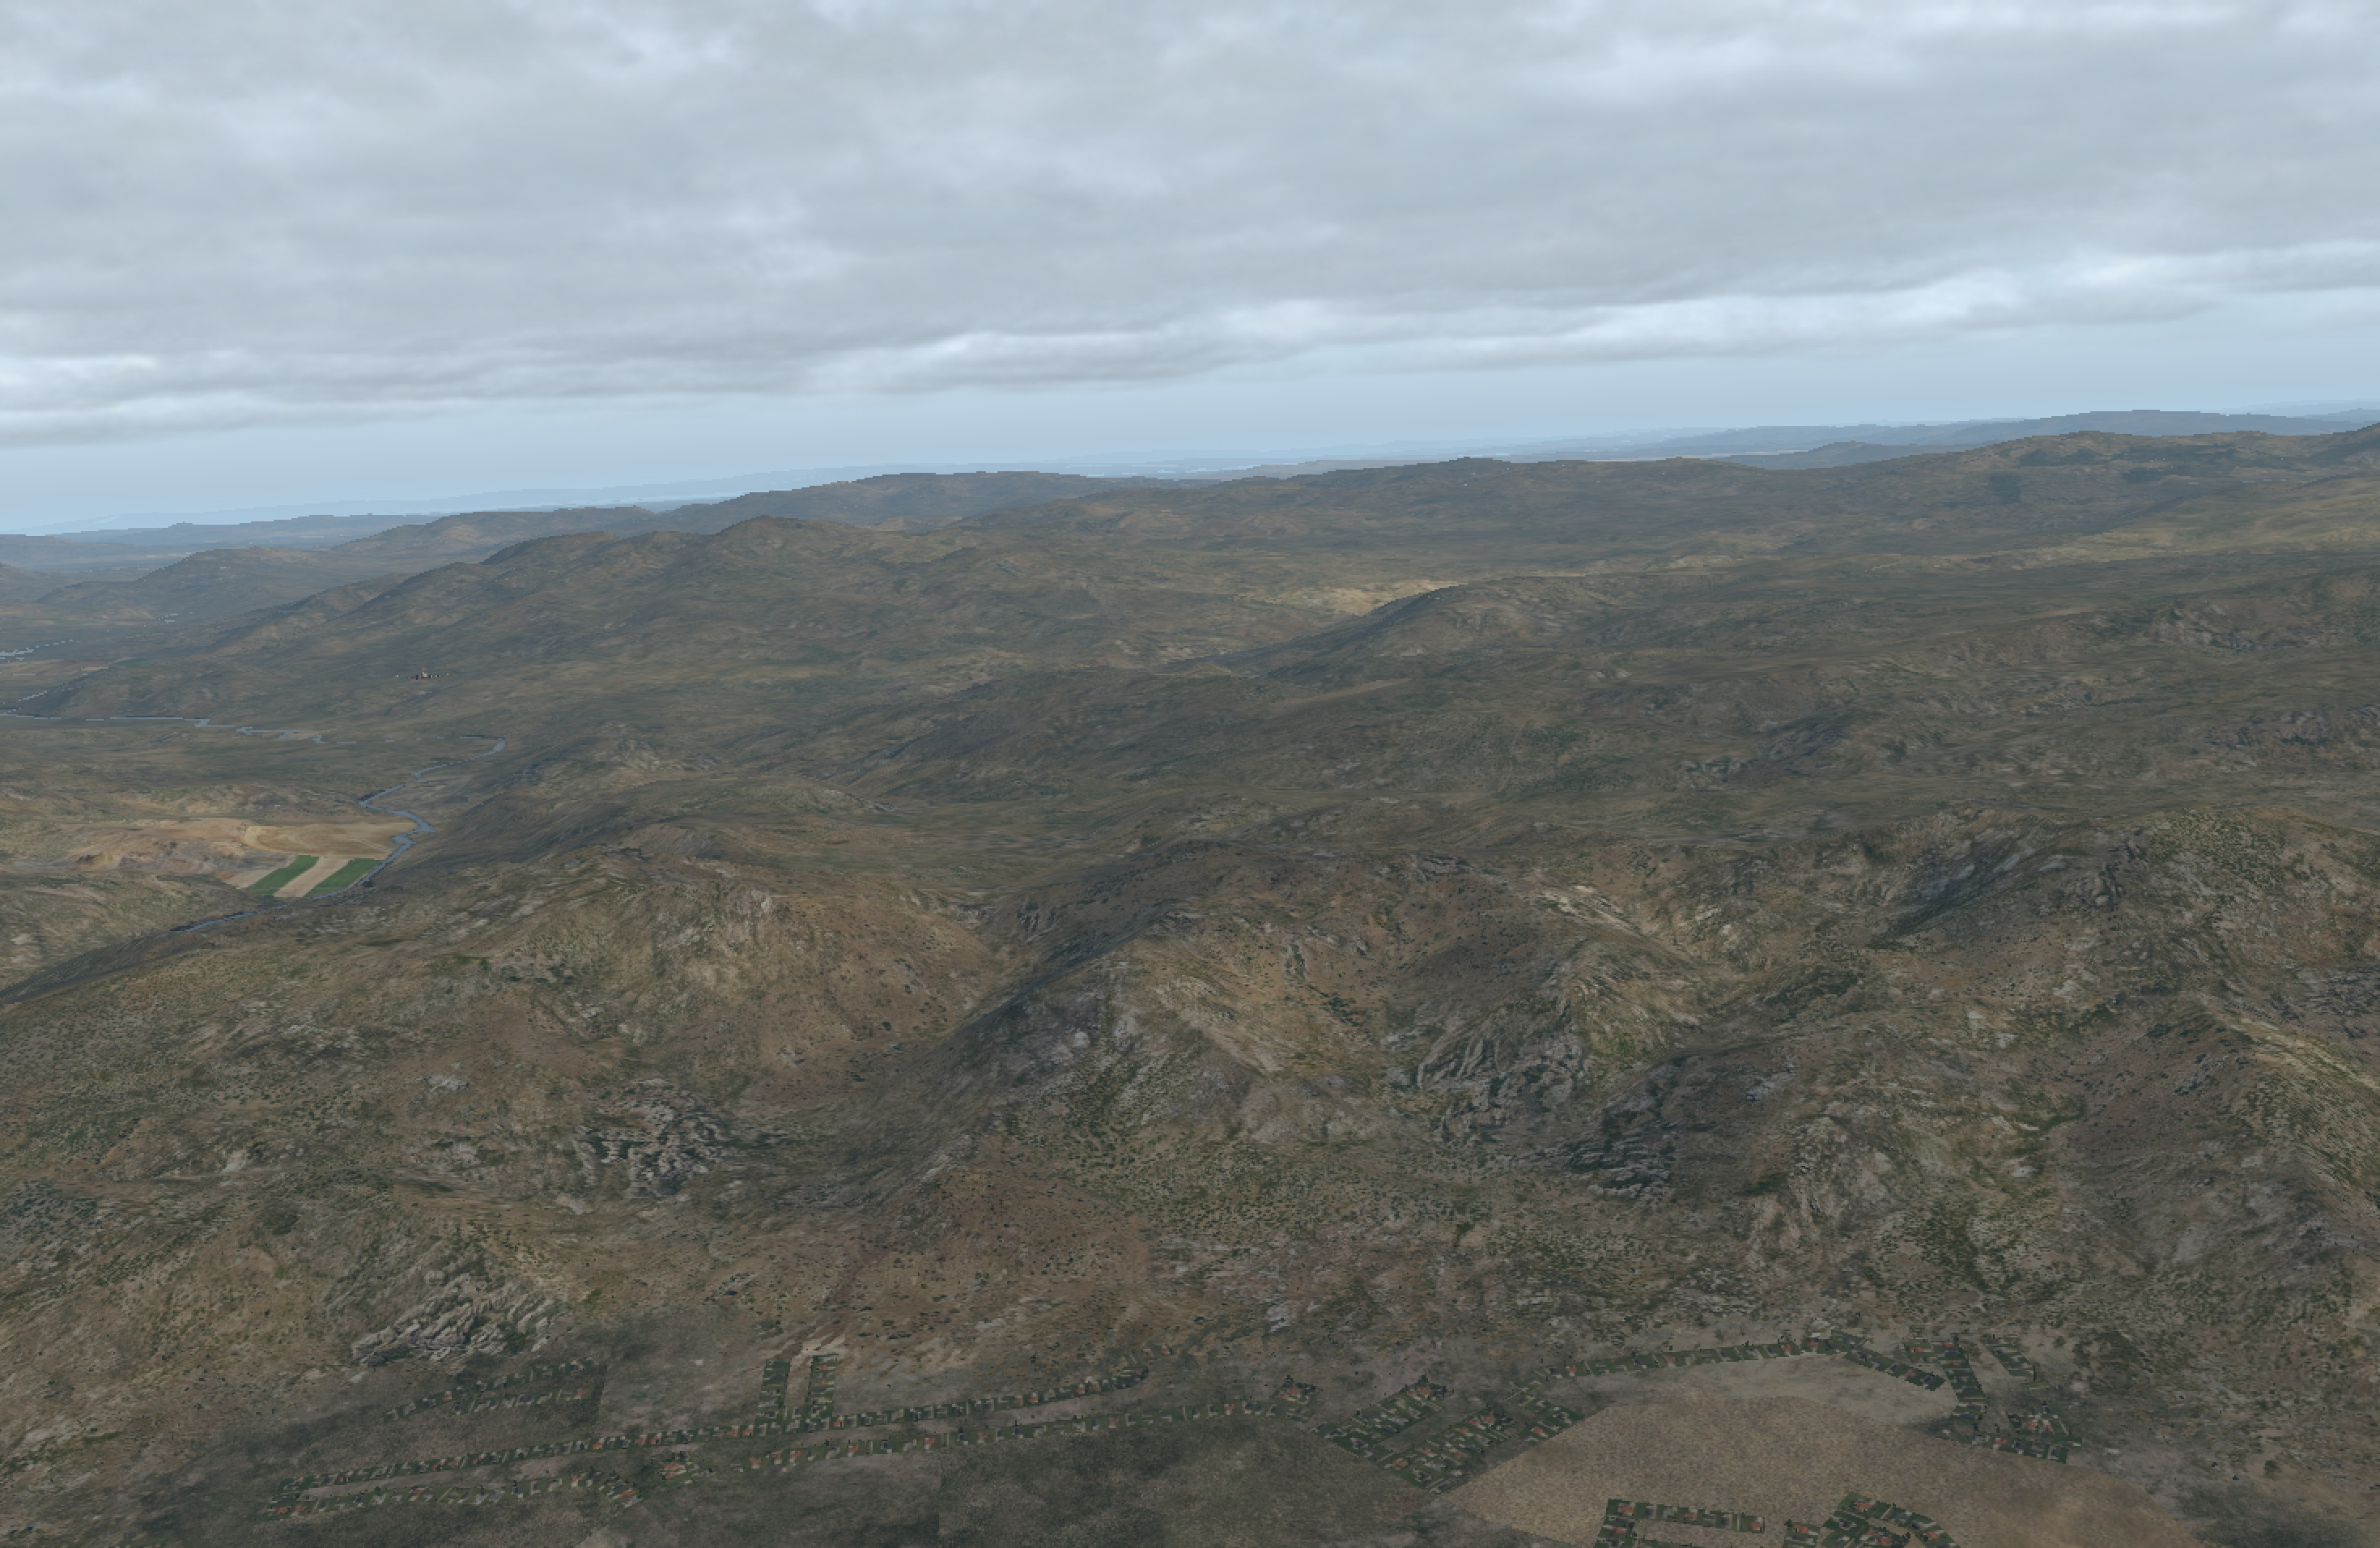aircraft: (399, 668, 449, 687)
